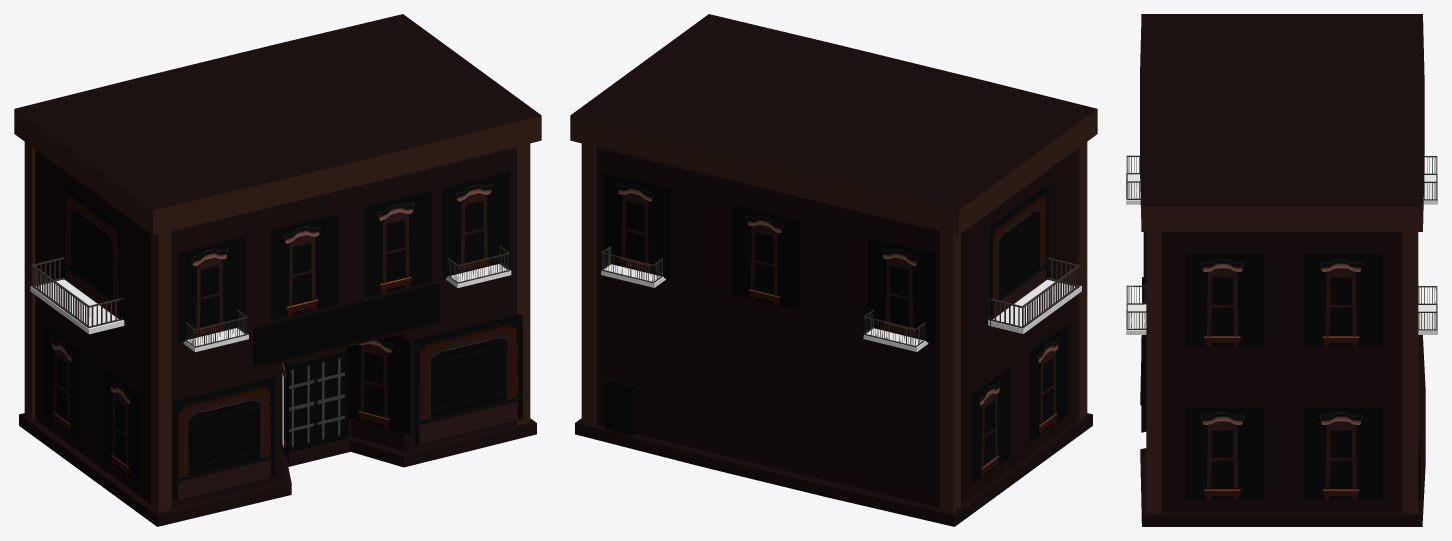
File: Building(2).fbx
3 views of the same model, side by side, from view 1: azimuth 30°, elevation 25°; view 2: azimuth 150°, elevation 25°; view 3: azimuth 270°, elevation 25° (orthographic).
Visible parts, largest first — view 1: Building(2); view 2: Building(2); view 3: Building(2).
Boxes of the visible parts, left/top/right/bottom form: Building(2): left=14, top=14, right=541, bottom=526; Building(2): left=570, top=14, right=1097, bottom=526; Building(2): left=1126, top=14, right=1437, bottom=526.
Size of the model in its own units: 8.1 by 5.96 by 5.22.
